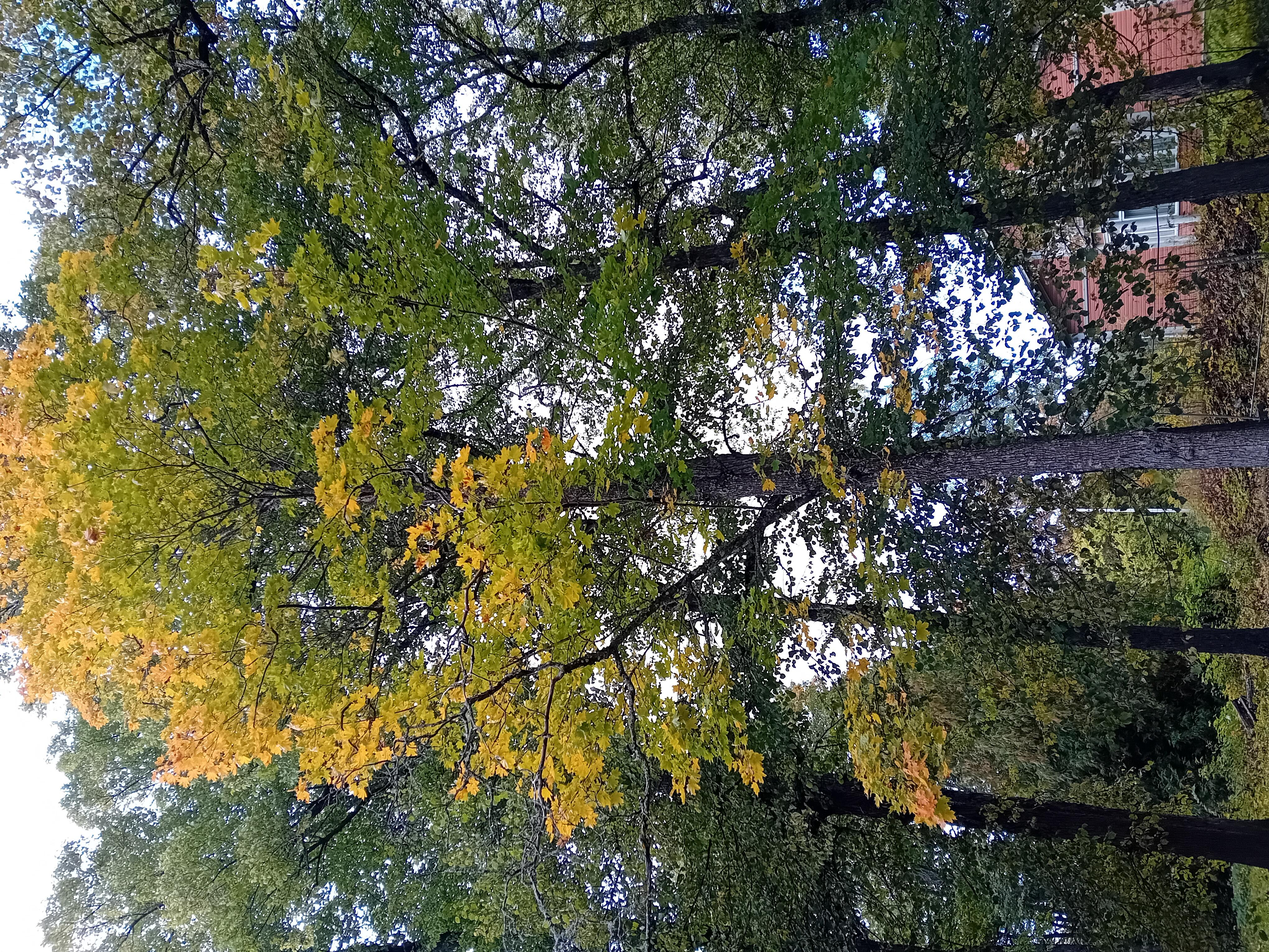Maple: (121, 1, 924, 932), (167, 1, 924, 952)
